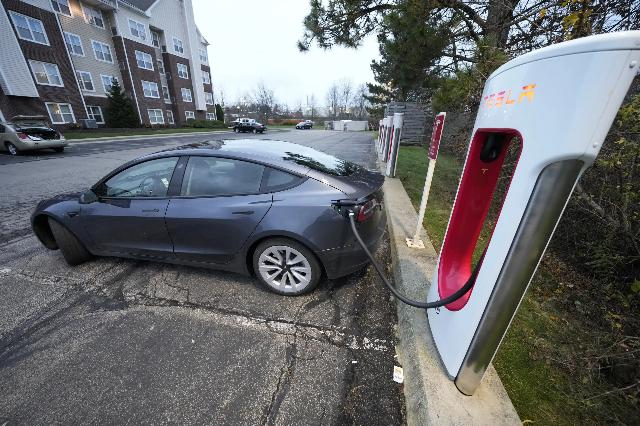tesla: (29, 137, 388, 297)
